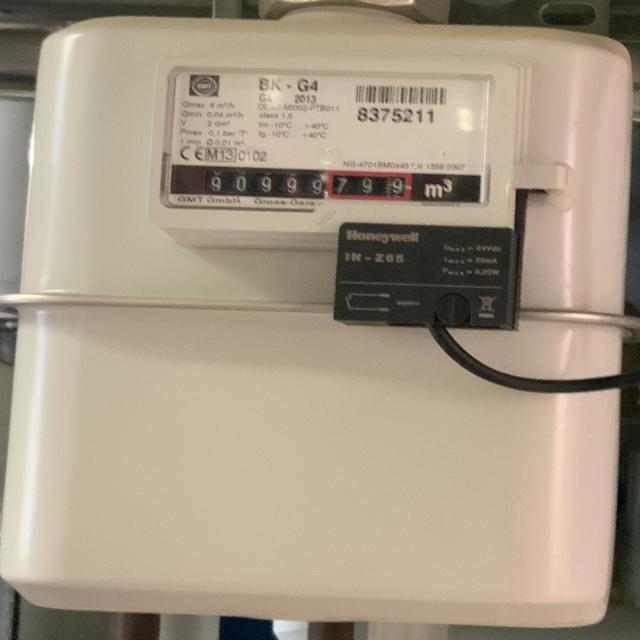gaz_meter: (166, 71, 488, 205)
indication: (194, 163, 420, 206)
